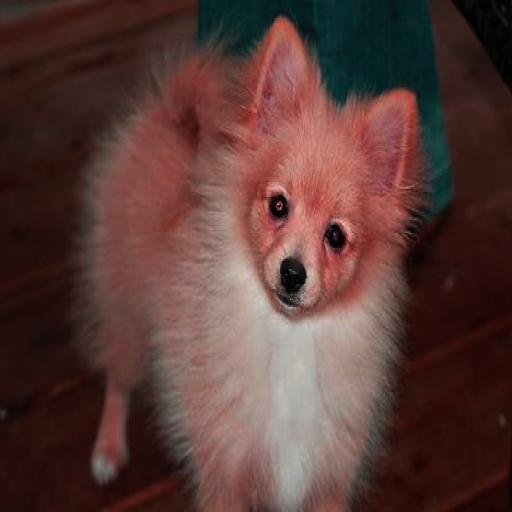dog_face: (239, 30, 406, 311)
